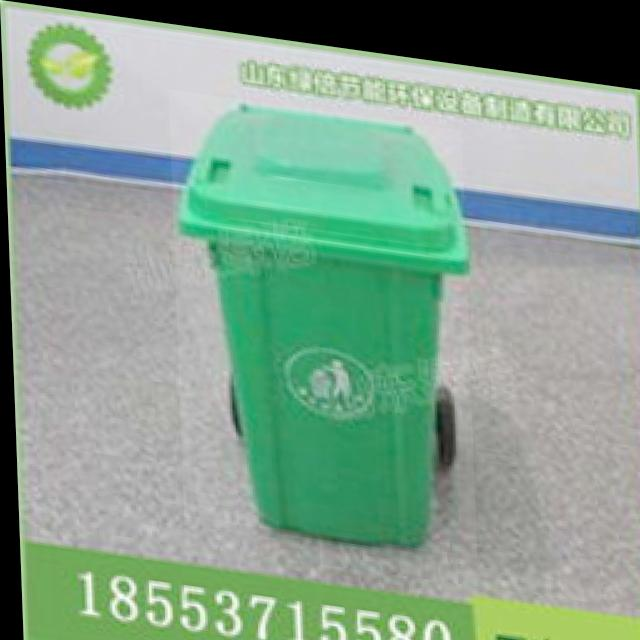garbage_bin: (168, 84, 474, 545)
